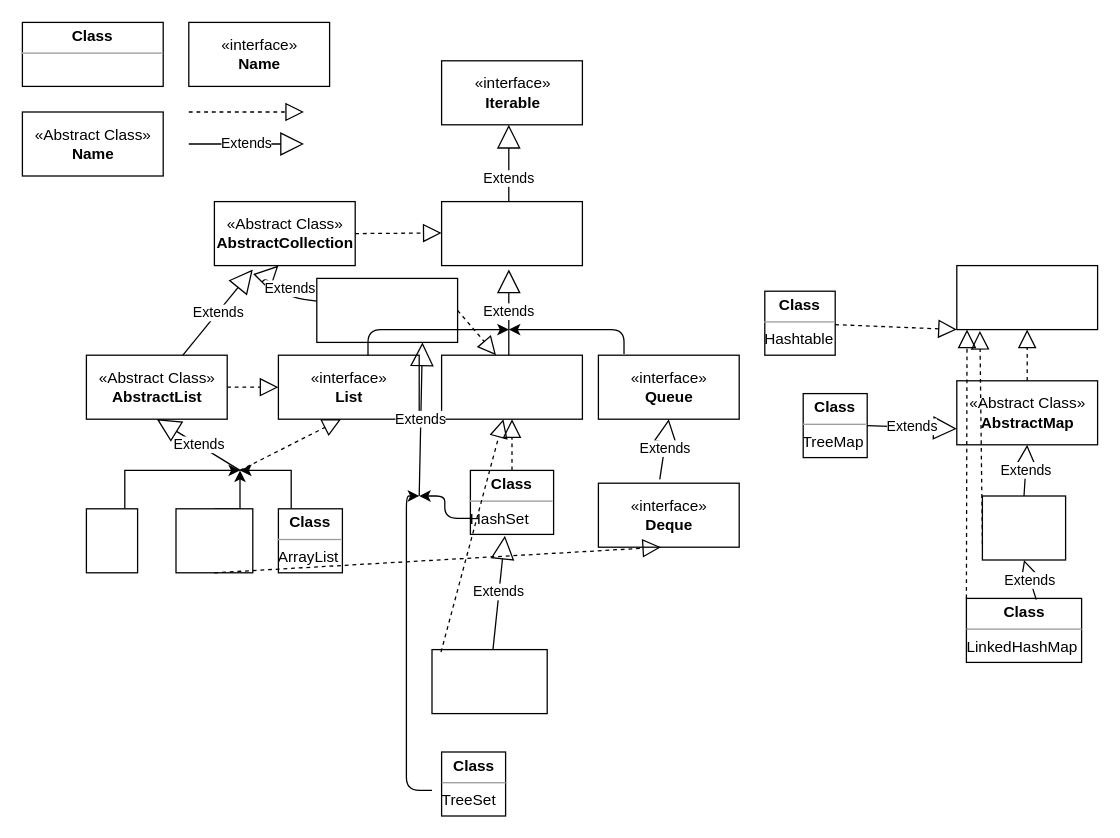
This 1120x838 diagram has some shape labels left out. Here are the shapes that lost their labels. From the top down, the box of each, then its label:
(440, 200, 582, 266): «interface» Collection
(316, 277, 458, 342): «Abstract Class» AbstractSet
(956, 264, 1098, 330): «interface» Map
(440, 354, 582, 419): «interface» Set
(85, 508, 138, 573): Class Vector
(175, 508, 253, 573): Class LinkedList
(981, 495, 1066, 560): Class HashMap
(431, 648, 547, 714): Class LinkedHashSet
